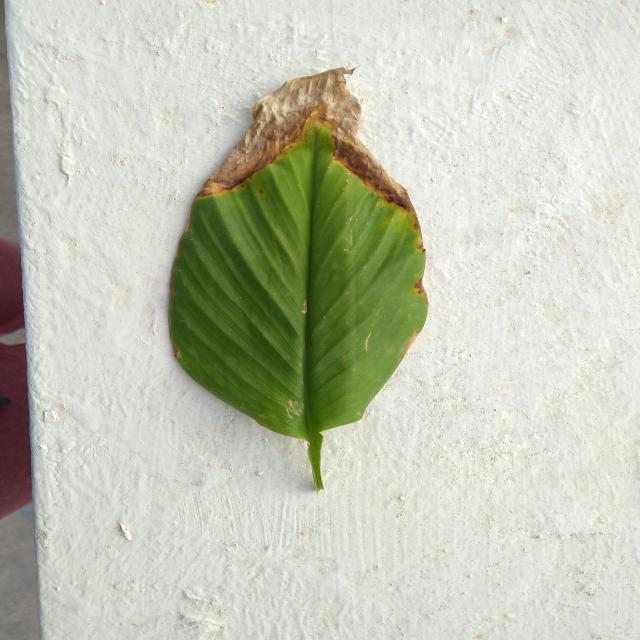leaf blotch: (169, 68, 427, 490)
